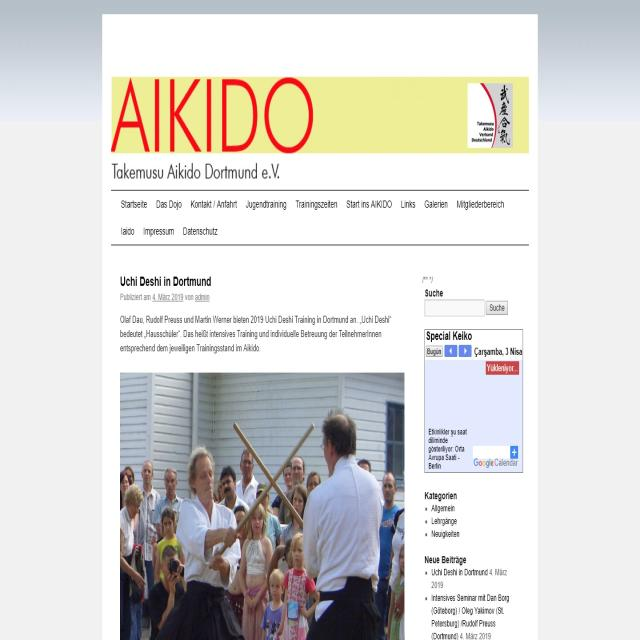button: (188, 194, 240, 214), (455, 194, 508, 213), (344, 194, 394, 213), (295, 194, 339, 215), (180, 222, 222, 242), (244, 195, 290, 213), (422, 192, 451, 214), (117, 193, 150, 212), (153, 193, 184, 213), (142, 223, 177, 240), (398, 192, 418, 214), (486, 300, 508, 316), (118, 224, 138, 239)
field: (424, 301, 484, 316)
heading: (108, 74, 316, 152), (108, 155, 286, 190), (117, 269, 214, 288), (423, 554, 467, 566), (425, 489, 458, 502)
iframe: (425, 328, 523, 474)
image: (118, 371, 405, 640), (470, 85, 514, 150)
label: (118, 291, 212, 304), (424, 288, 444, 298)
text: (117, 308, 396, 356), (429, 564, 510, 640), (424, 503, 460, 542)
